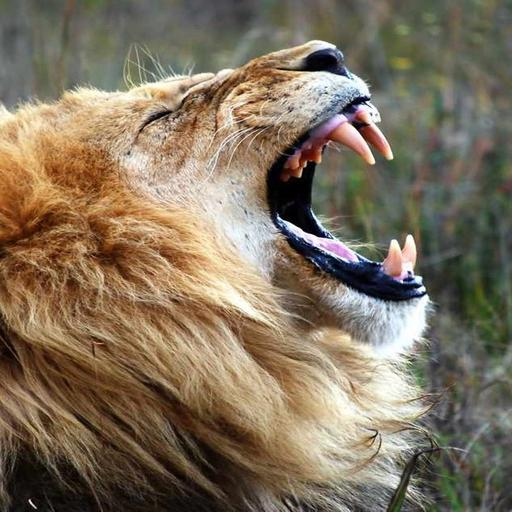Lion: (0, 31, 466, 512)
